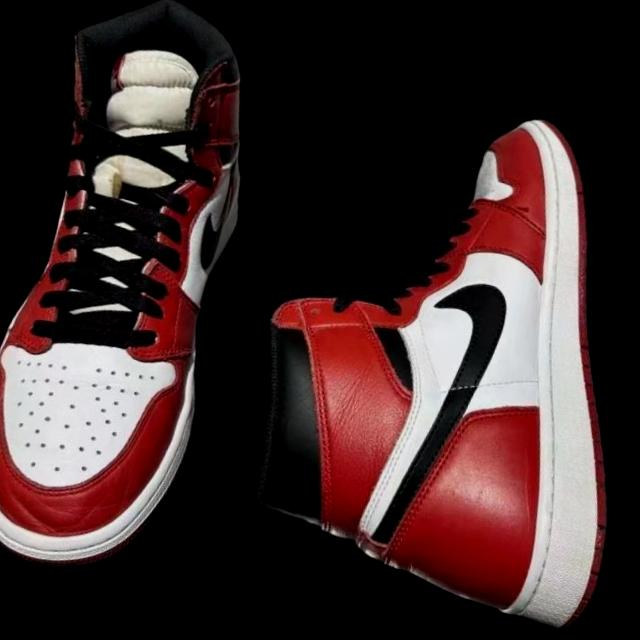nike_original_jordan: (223, 76, 640, 633), (0, 0, 287, 587)
